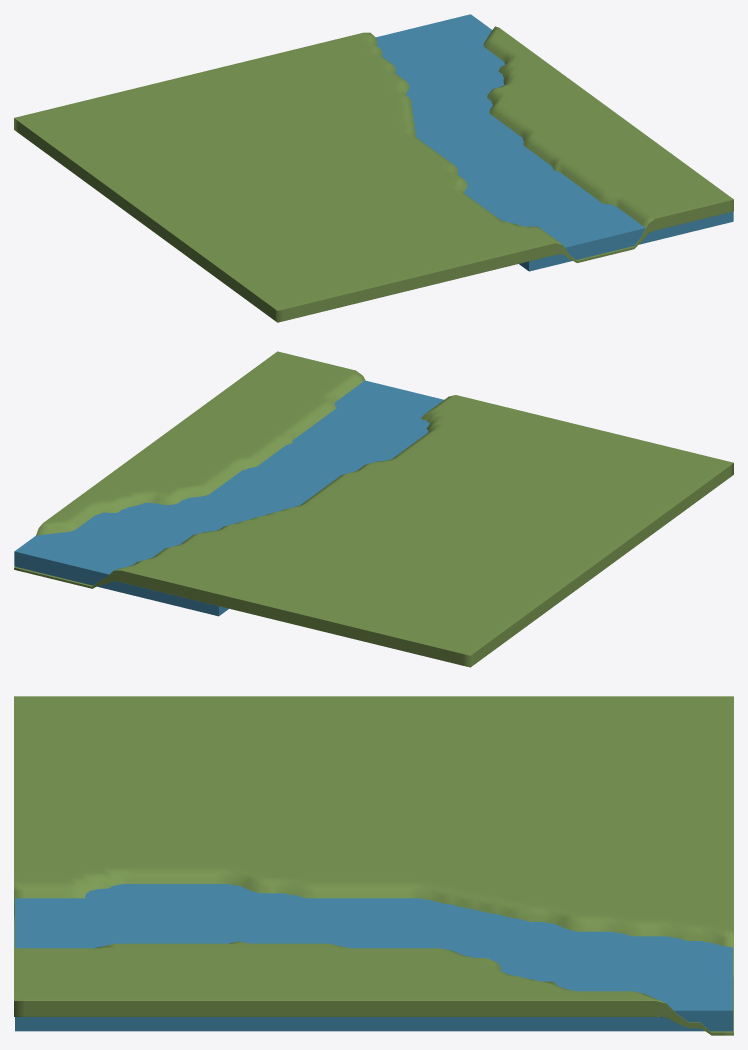
The model's file is Terrain.fbx.
The picture shows the model from 3 angles, top to bottom: view 1: azimuth 30°, elevation 25°; view 2: azimuth 150°, elevation 25°; view 3: azimuth 270°, elevation 25°; orthographic projection. The views are drawn at different scales.
Parts seen in each view (by area): view 1: Cube, Cube.001; view 2: Cube, Cube.001; view 3: Cube, Cube.001.
Part boxes in pixels (x1,y1,x2,y2): Cube: (14, 26, 733, 322); Cube.001: (376, 14, 733, 271); Cube: (14, 351, 733, 667); Cube.001: (14, 380, 443, 616); Cube: (14, 696, 733, 1035); Cube.001: (15, 884, 732, 1031).
Size of the model in its own units: 40000 by 2133 by 40000.
